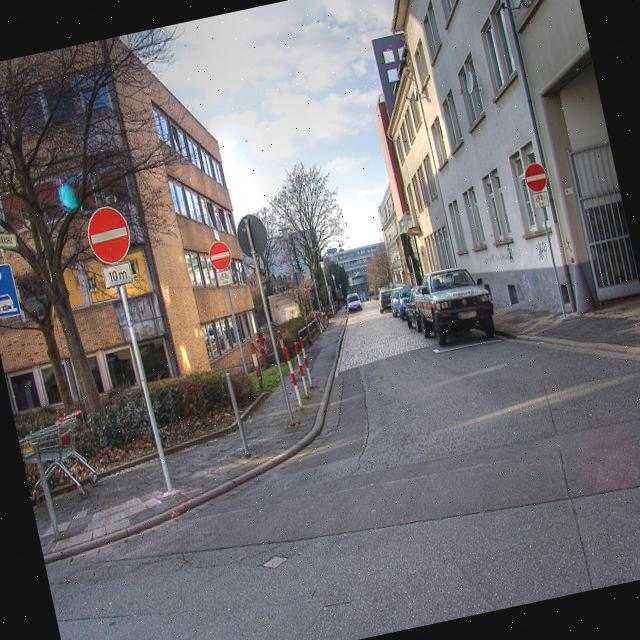fire_hydrant: (252, 326, 272, 369)
